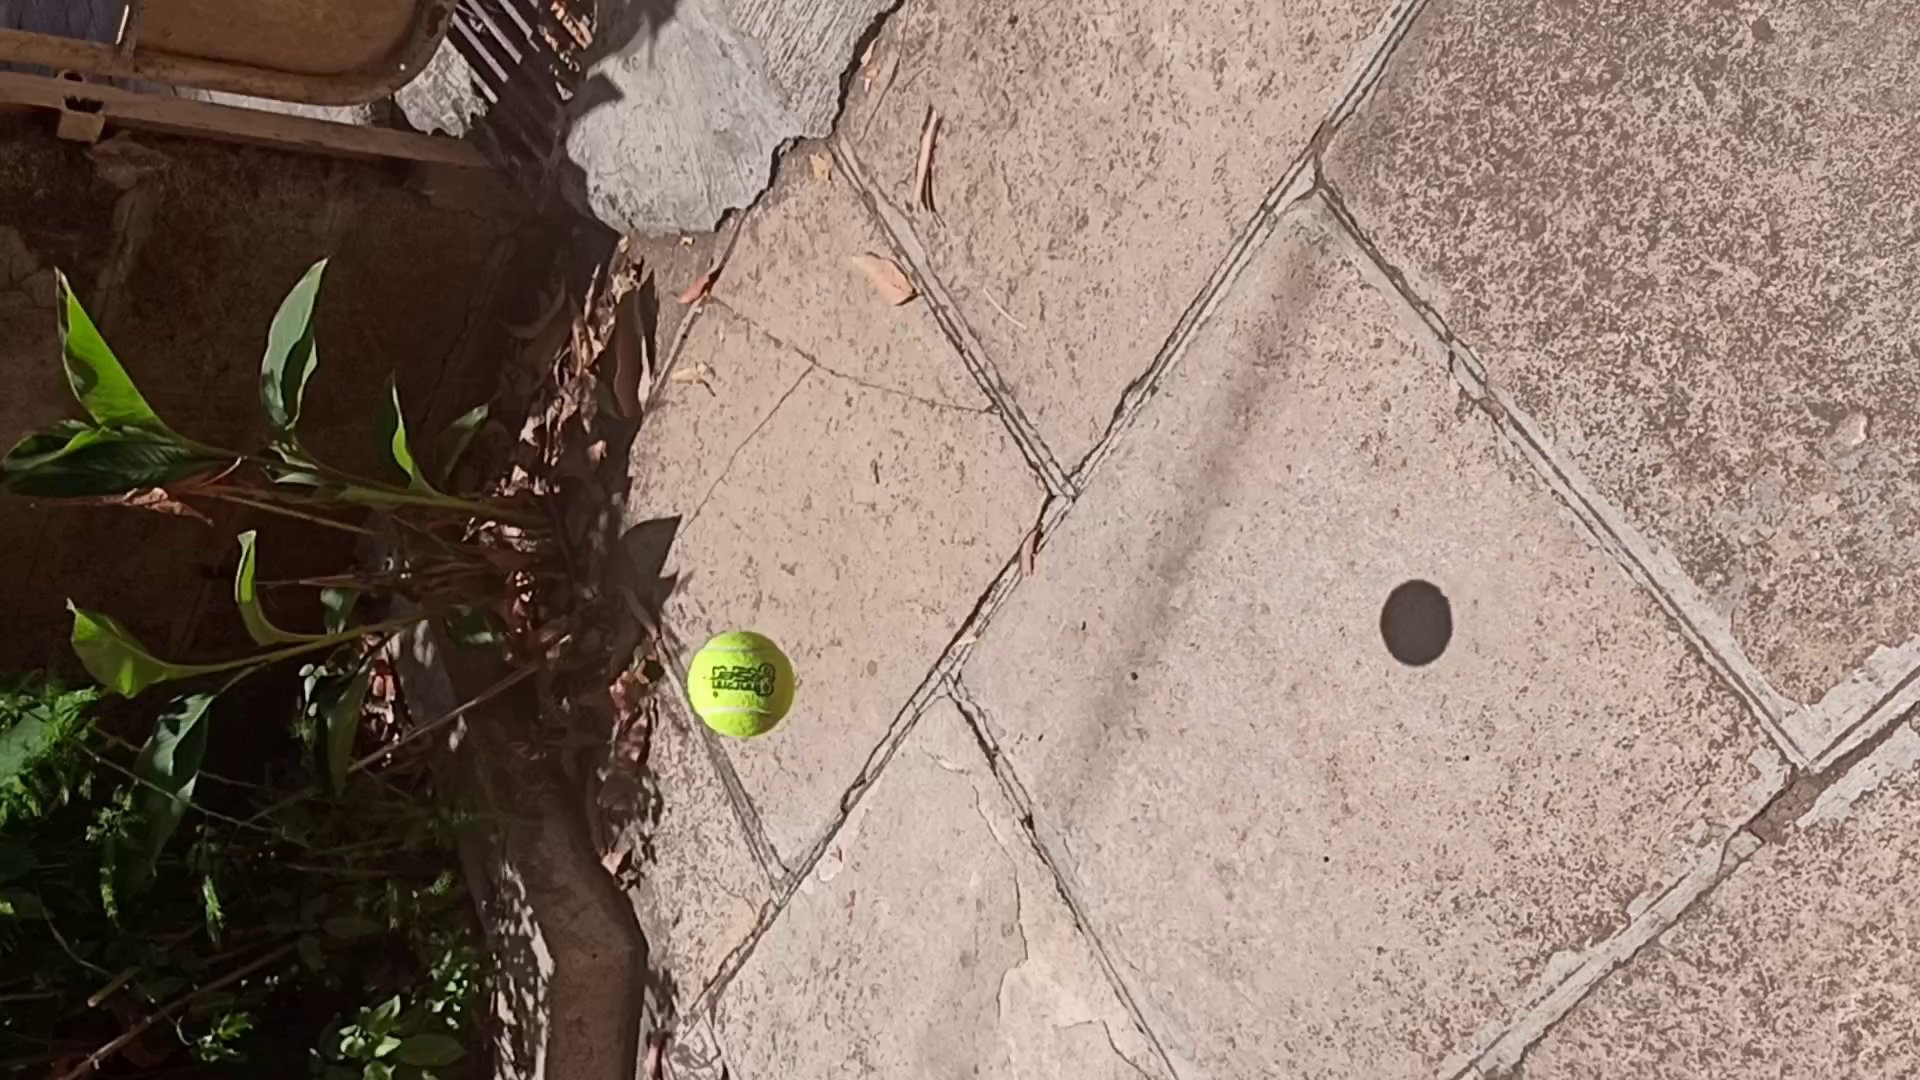Tennis-Ball: (687, 632, 795, 736)
